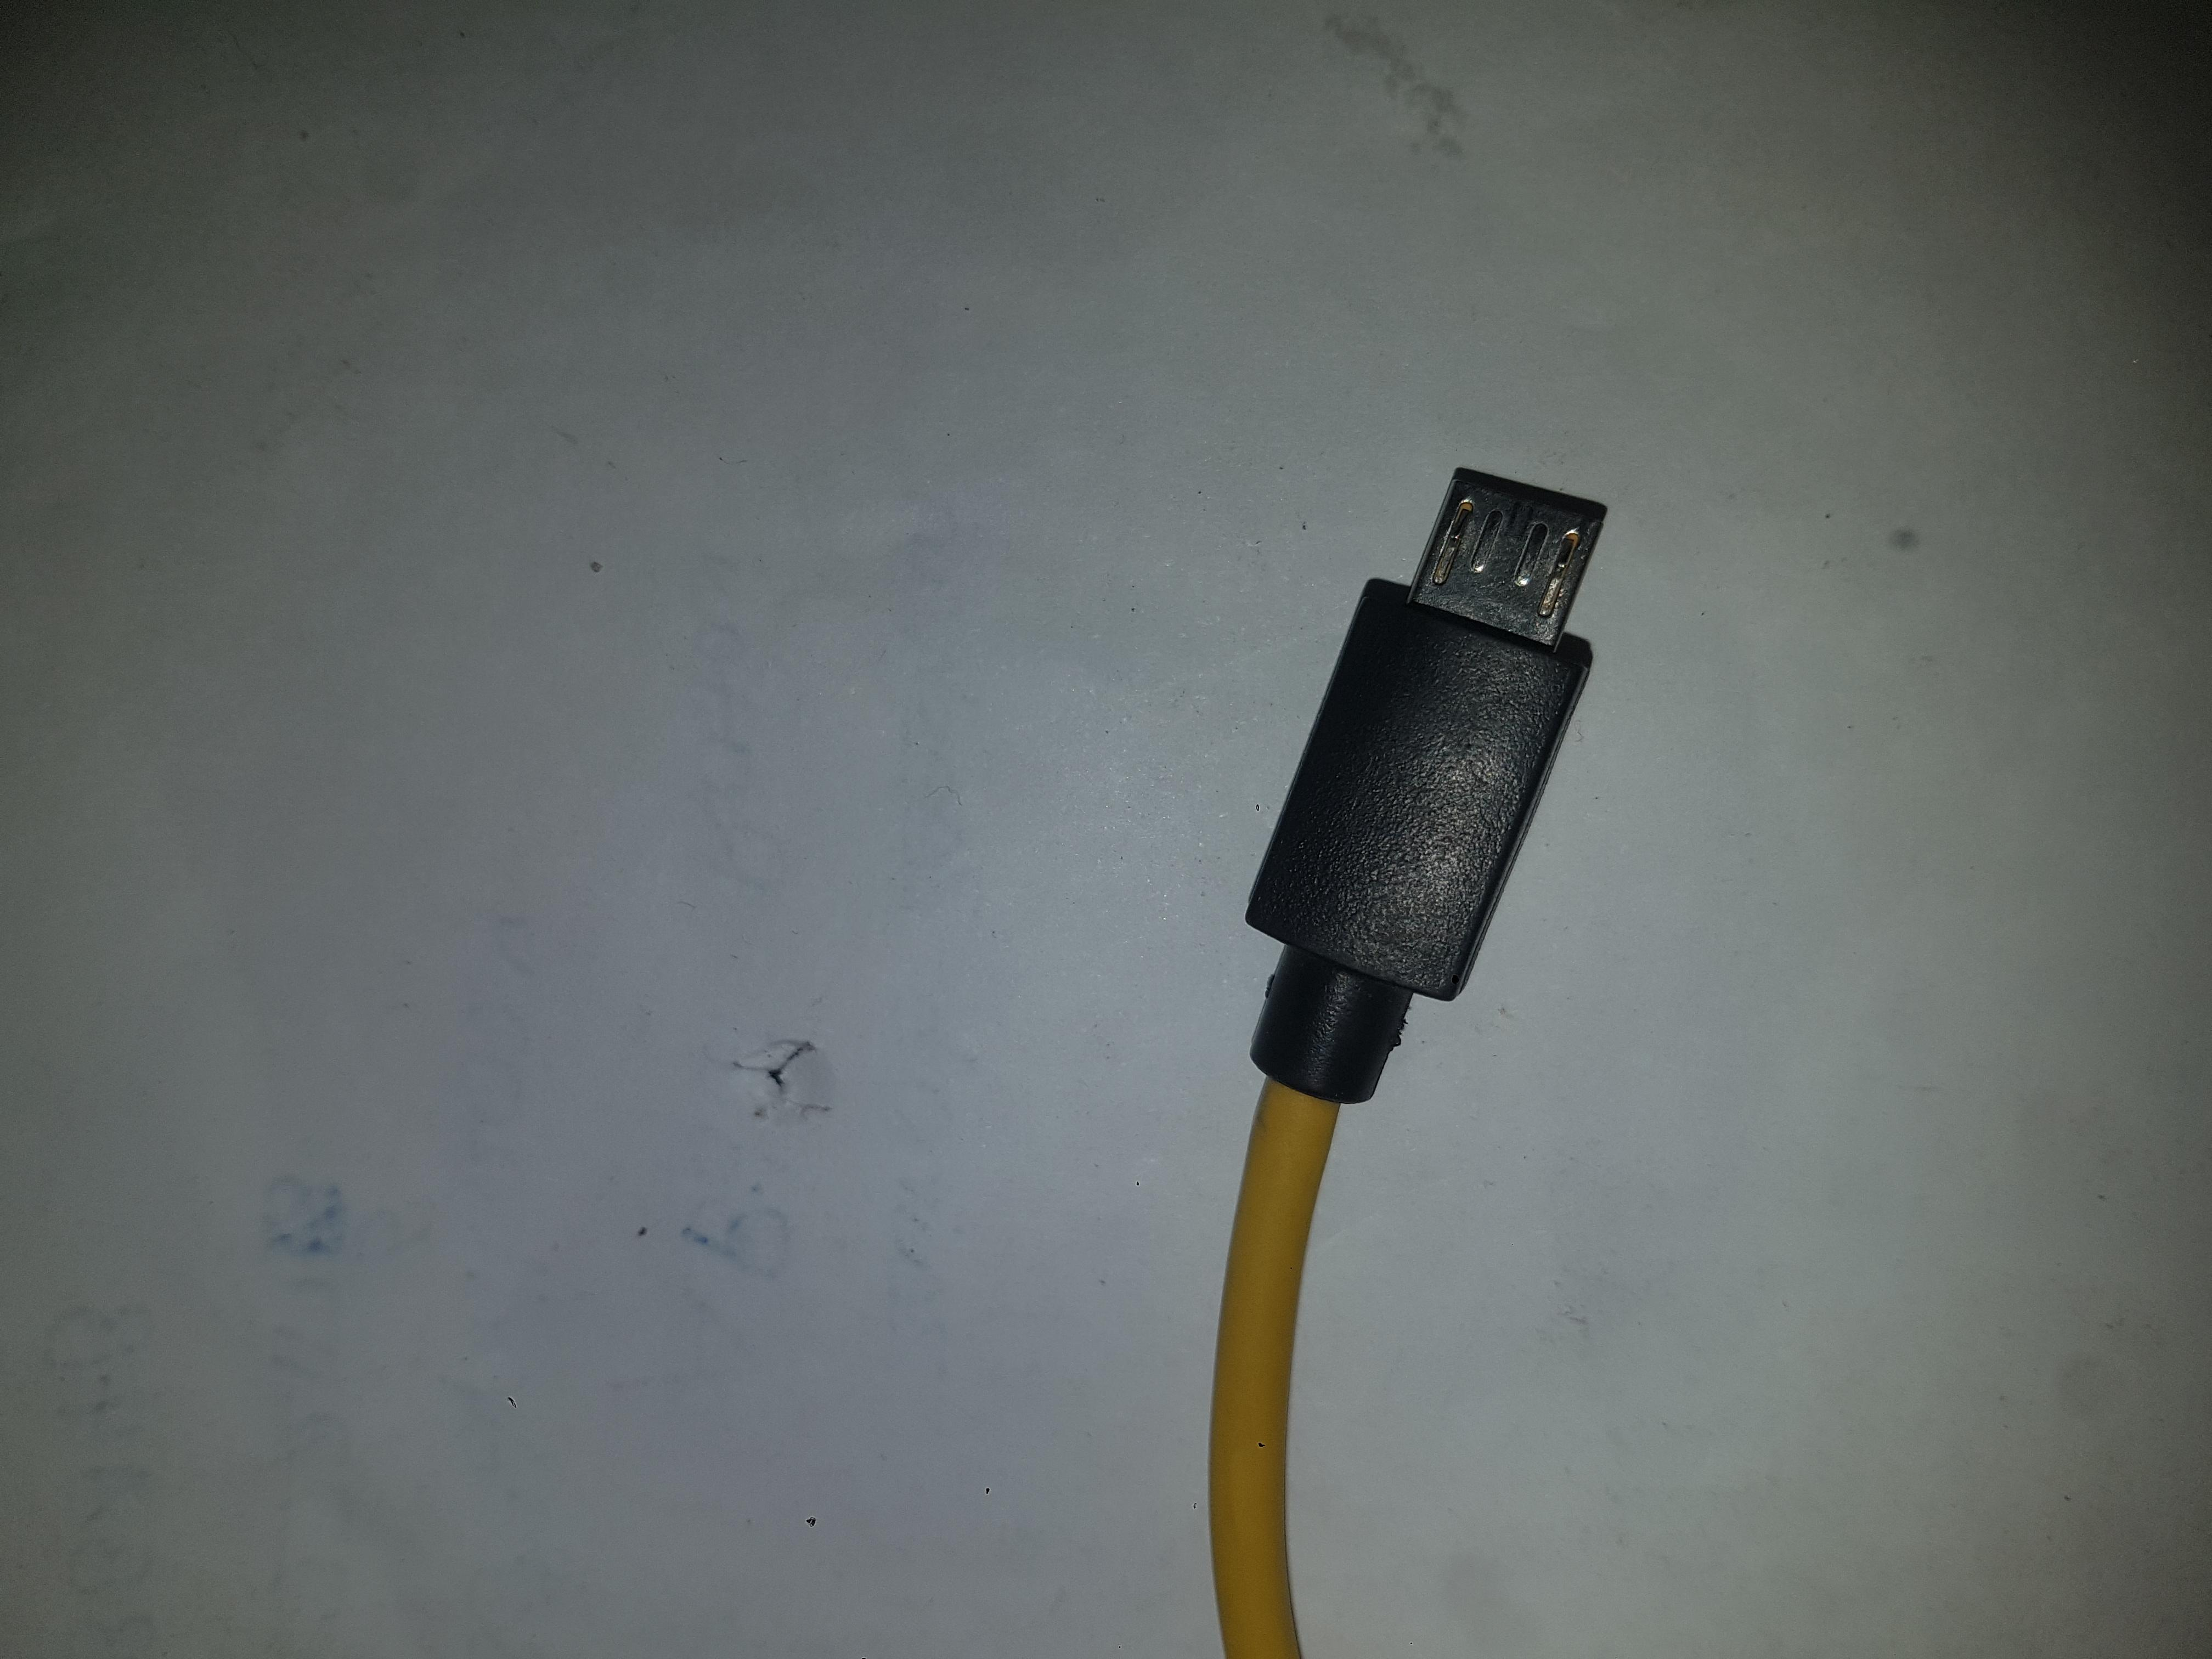electronic: (594, 0, 1022, 1192)
